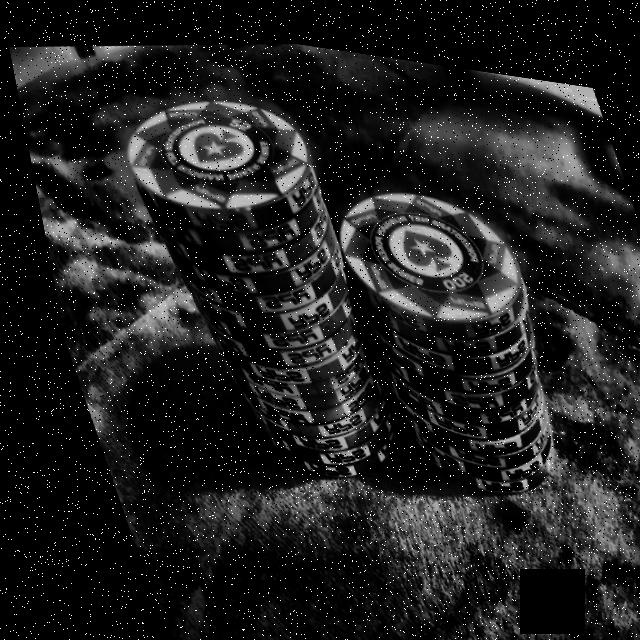Chip: (93, 54, 416, 506), (304, 149, 594, 517)
